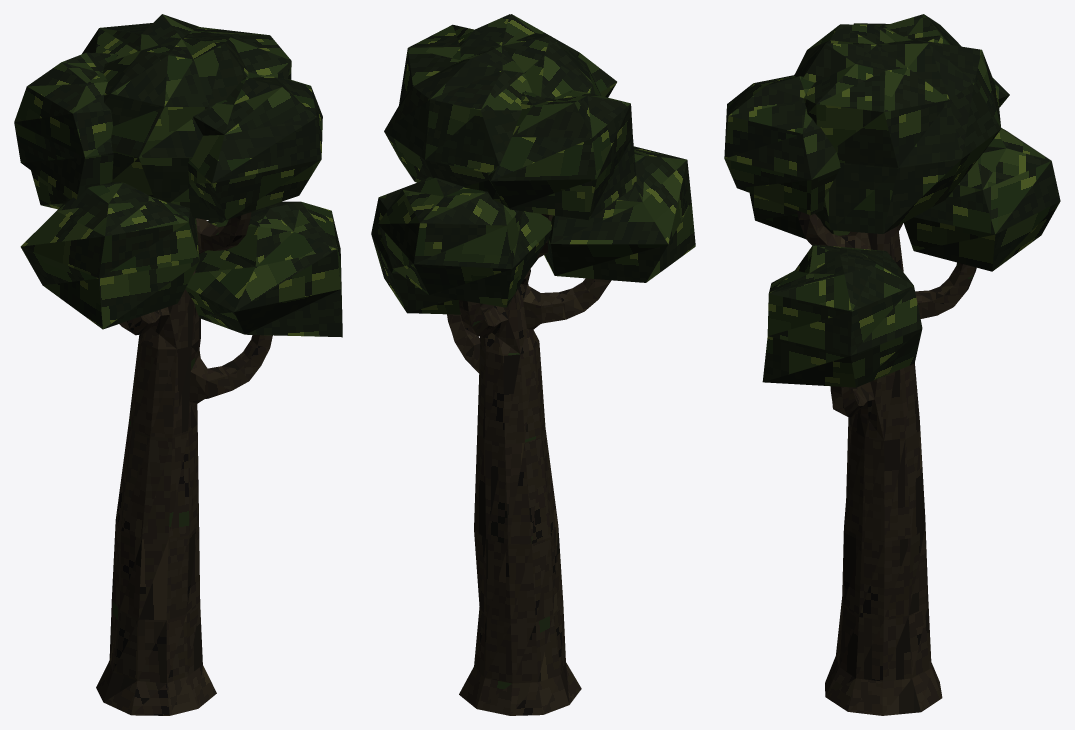
The model's file is forest_tree_prop_a.glb.
3 views of the same model, side by side, from view 1: azimuth 30°, elevation 25°; view 2: azimuth 150°, elevation 25°; view 3: azimuth 270°, elevation 25° (orthographic). The views are drawn at different scales.
Parts seen in each view (by area): view 1: ForestTreePropA; view 2: ForestTreePropA; view 3: ForestTreePropA.
Boxes of the visible parts, box(x1,y1,x2,y2) form: ForestTreePropA: box(14, 14, 342, 715); ForestTreePropA: box(371, 14, 695, 715); ForestTreePropA: box(724, 14, 1060, 715).
Size of what is drawn, in the model's own units: 4.11 by 8.31 by 3.8.
Materials: 1 (1 with a texture image).
